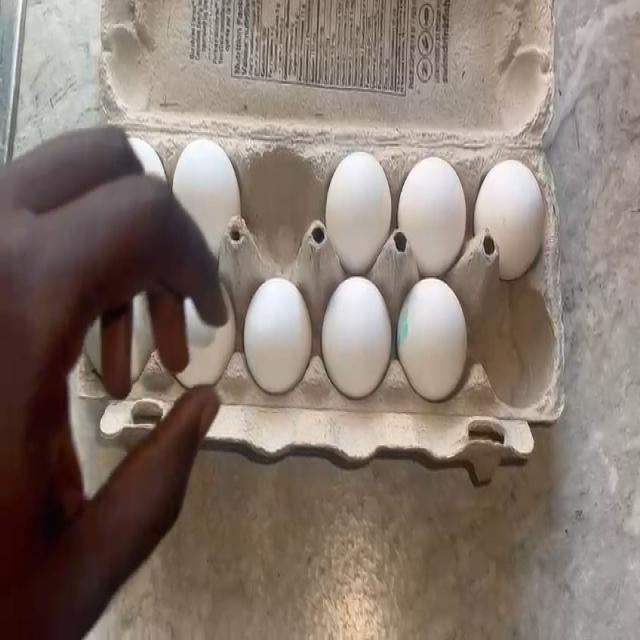Egg: (169, 127, 246, 235), (246, 281, 306, 378), (328, 282, 383, 380), (333, 142, 383, 248), (488, 160, 542, 256), (406, 290, 462, 382), (409, 153, 462, 250)
